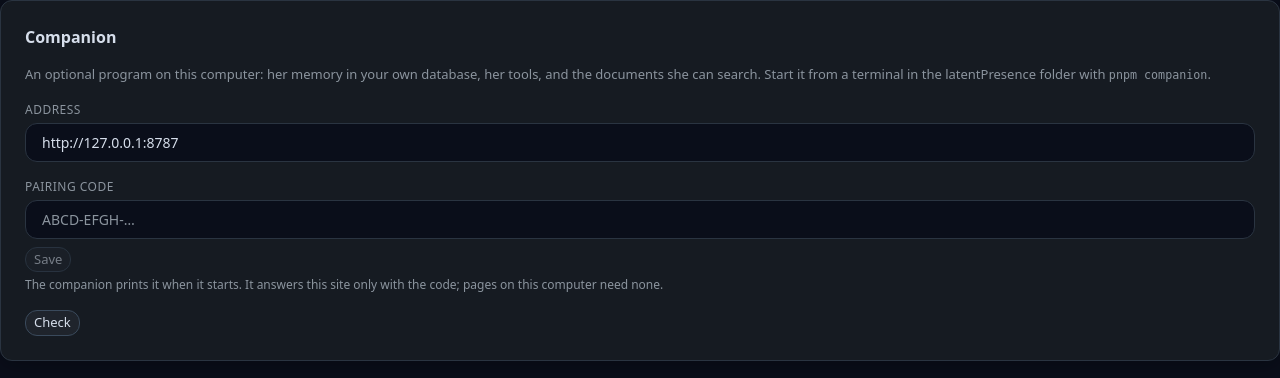
Test: Settings → Companion in a browser (P8-T03, ADR-64) › Save keeps the code, shows it only as saved, and checks at once
Step 1. Type "abcd-efgh-2345" into the password field labelled "Pairing code" → point(640, 219), box [25, 200, 1255, 238]
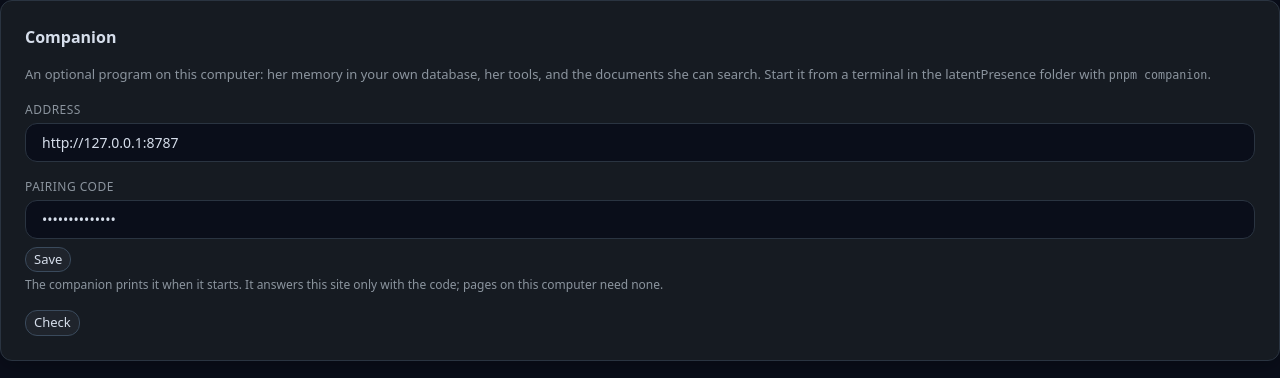
Step 2. Click the button "Save" → point(48, 259), box [25, 246, 71, 272]
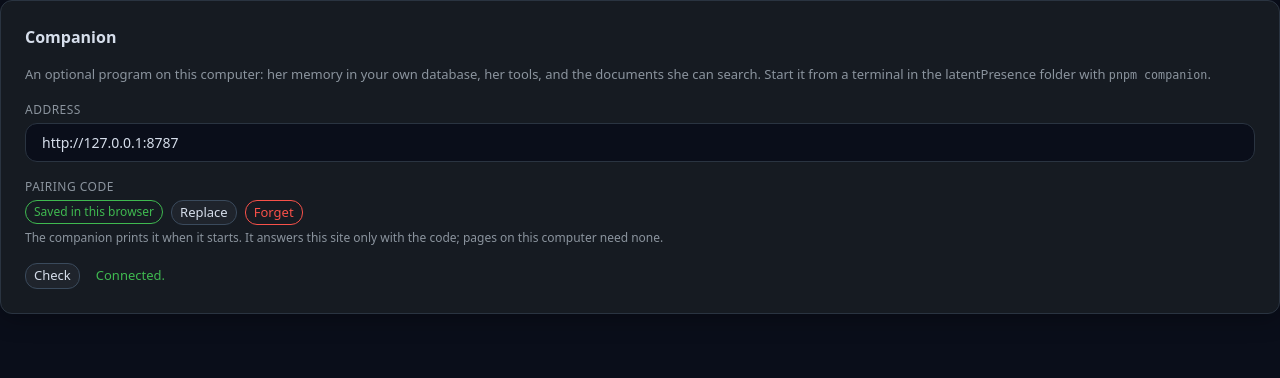
Now the text "Saved in this browser" is shown, box [25, 200, 163, 224]
Now the text "Connected." is shown, box [96, 266, 165, 286]
Step 3. Click the button "Forget" → point(274, 212), box [245, 200, 303, 225]
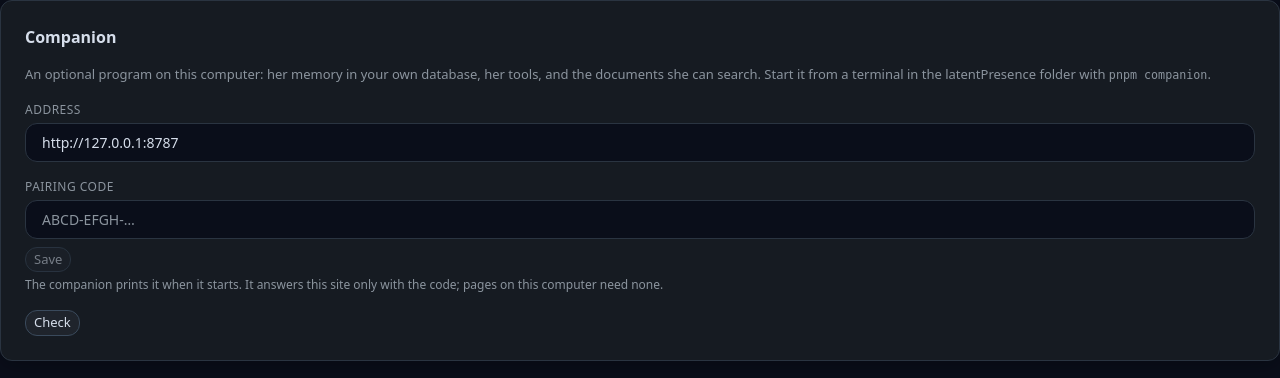
Now the button "Save" is shown, box [25, 246, 71, 272]
